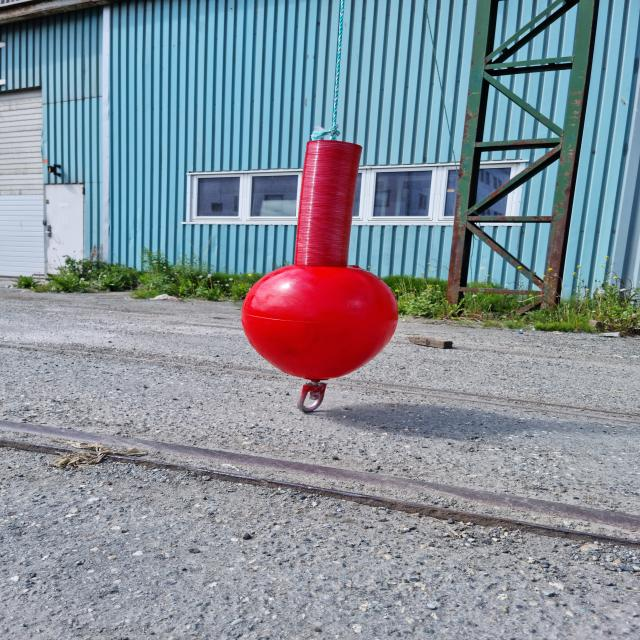red: (242, 143, 400, 379)
